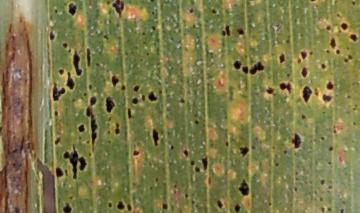tarspot: (85, 95, 100, 151), (63, 147, 87, 180), (71, 47, 83, 77), (237, 176, 252, 198), (50, 81, 66, 101), (102, 95, 118, 114), (148, 127, 162, 147), (301, 84, 314, 105), (248, 61, 265, 77), (110, 1, 127, 17), (83, 46, 94, 67), (66, 1, 79, 18), (279, 79, 293, 94), (290, 133, 302, 150), (75, 121, 87, 137), (65, 76, 77, 92), (53, 165, 66, 179), (238, 144, 251, 158), (231, 58, 243, 73), (201, 154, 210, 173), (235, 25, 248, 38), (59, 201, 73, 213), (324, 79, 336, 93), (46, 28, 57, 43), (147, 89, 158, 104), (321, 92, 333, 105), (264, 84, 275, 98), (276, 51, 287, 65), (328, 36, 339, 50), (110, 73, 119, 90), (129, 95, 141, 107), (339, 21, 351, 33), (347, 33, 359, 44), (113, 120, 121, 136), (225, 22, 233, 38), (215, 199, 226, 210), (180, 147, 191, 158), (300, 66, 309, 79), (116, 200, 126, 211), (56, 66, 66, 77), (191, 164, 201, 175), (191, 117, 201, 128), (326, 143, 336, 154), (323, 23, 334, 33), (51, 6, 62, 16), (281, 147, 291, 158), (273, 159, 283, 170), (182, 190, 192, 201), (11, 204, 23, 213), (85, 81, 94, 93), (125, 108, 134, 119), (209, 6, 218, 17), (187, 6, 196, 17), (185, 158, 199, 165), (150, 22, 157, 36), (52, 108, 61, 118), (106, 201, 115, 211), (52, 136, 62, 145), (60, 40, 69, 50), (318, 61, 328, 70), (161, 201, 169, 212), (223, 138, 231, 149), (318, 176, 326, 187), (234, 201, 241, 213), (318, 204, 327, 213), (132, 83, 140, 93), (132, 149, 140, 159), (298, 112, 308, 120), (177, 96, 187, 104), (337, 205, 347, 213), (220, 28, 226, 40), (168, 143, 176, 152), (300, 50, 307, 60), (127, 199, 132, 213), (349, 1, 357, 9), (327, 205, 335, 213), (341, 58, 350, 64), (122, 85, 127, 93)
